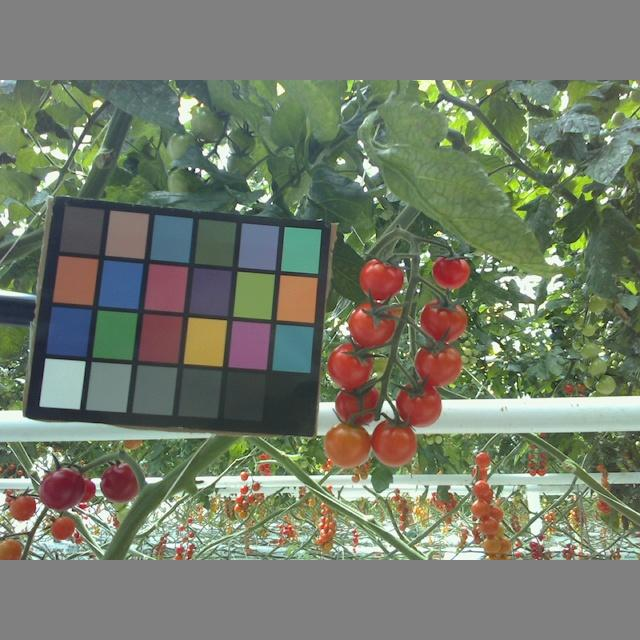pink: (366, 420, 420, 469), (323, 424, 373, 466), (6, 496, 35, 523), (50, 515, 77, 540), (471, 496, 491, 520), (1, 538, 22, 560), (481, 534, 502, 554), (473, 450, 492, 469), (470, 480, 490, 495)
red: (325, 344, 376, 390), (392, 381, 443, 426), (413, 343, 463, 388), (418, 299, 469, 342), (348, 303, 395, 348), (36, 468, 87, 509), (335, 382, 383, 424), (95, 462, 143, 503), (358, 259, 404, 298), (431, 255, 470, 285)
